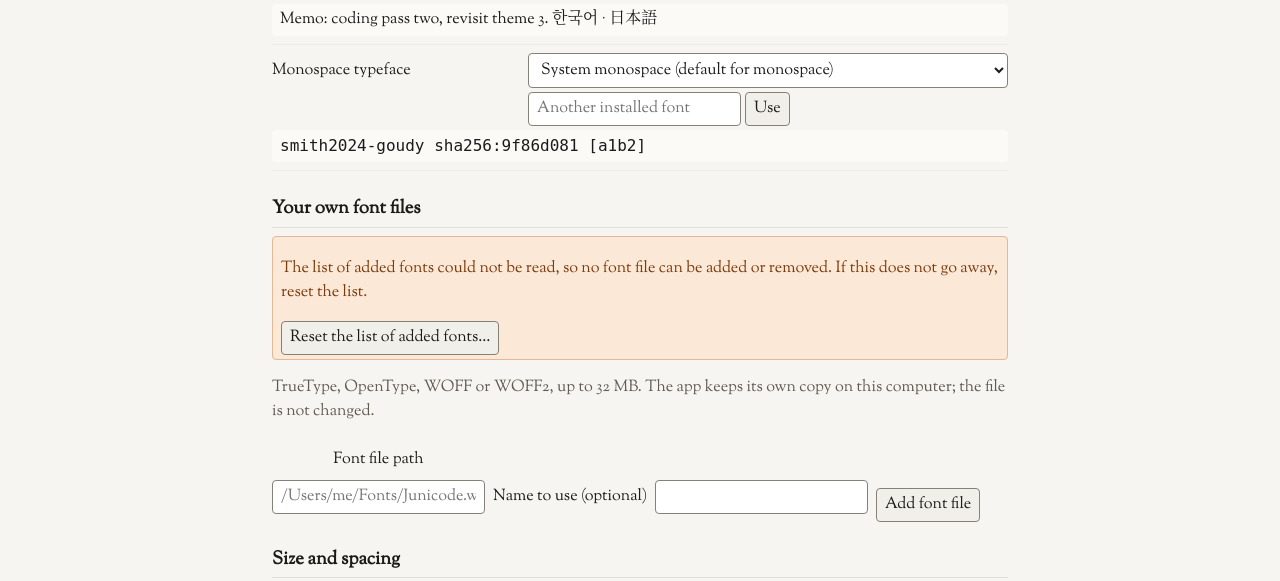
Test case: the list of added fonts cannot be read (Task 68) › the reset asks first: what is lost, what happens to the kept copies; focus is managed; confirmed, the list starts empty
(page scrolled)
Click the button "Reset the list of added fonts…". click: (390, 338)
box: 281,321 -> 499,355
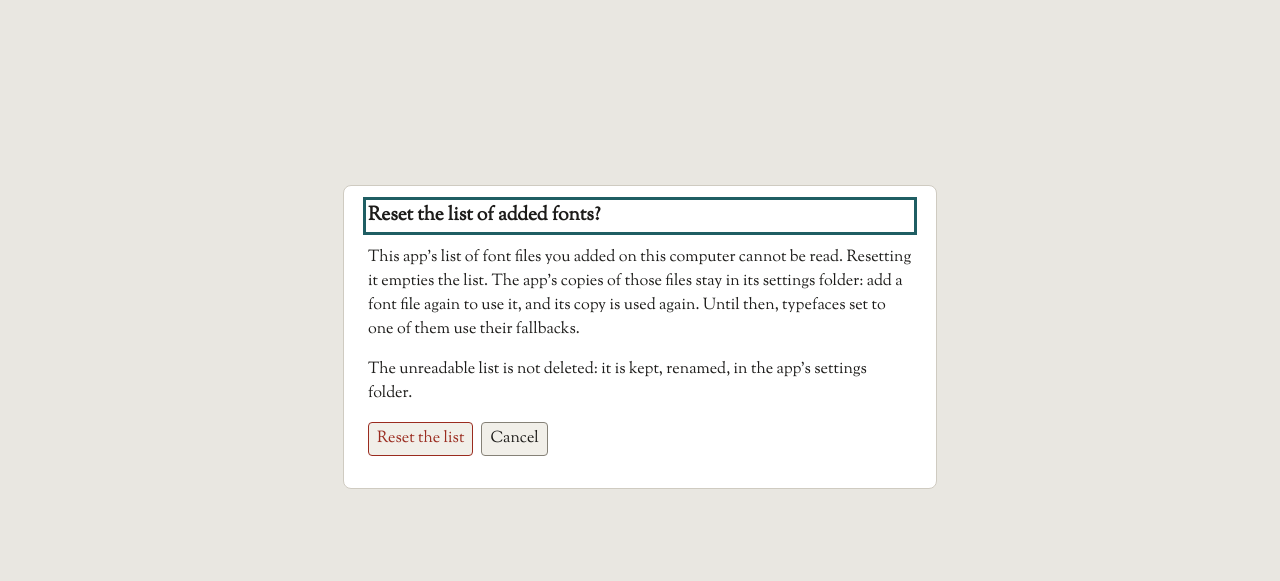
Expected: the dialog "Reset the list of added fonts?" shows "list of font files you added", 368,246 -> 911,341
Expected: the dialog "Reset the list of added fonts?" shows "copies of those files stay", 368,246 -> 911,341
Expected: the dialog "Reset the list of added fonts?" shows "kept, renamed", 368,358 -> 867,405
Press Tab
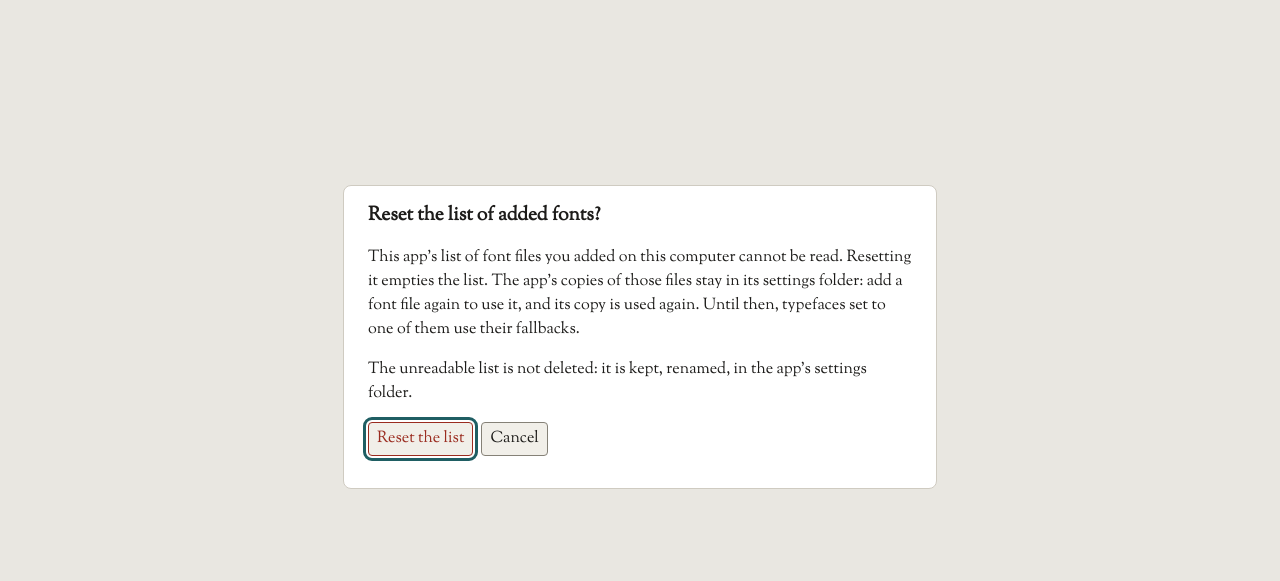
Press Shift+Tab
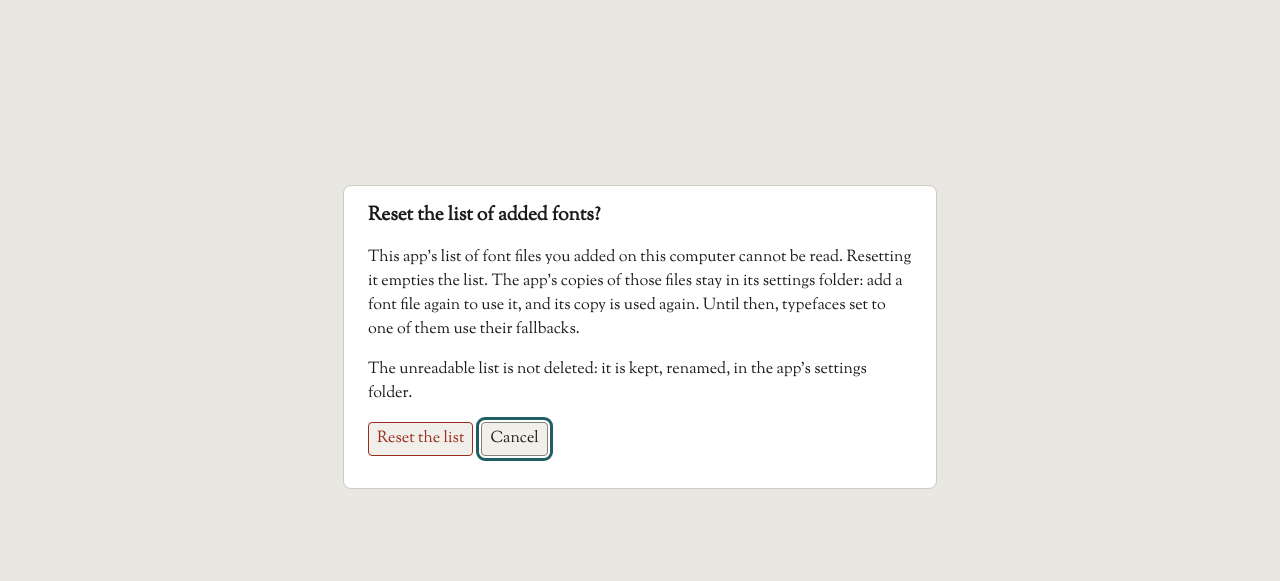
Press Escape
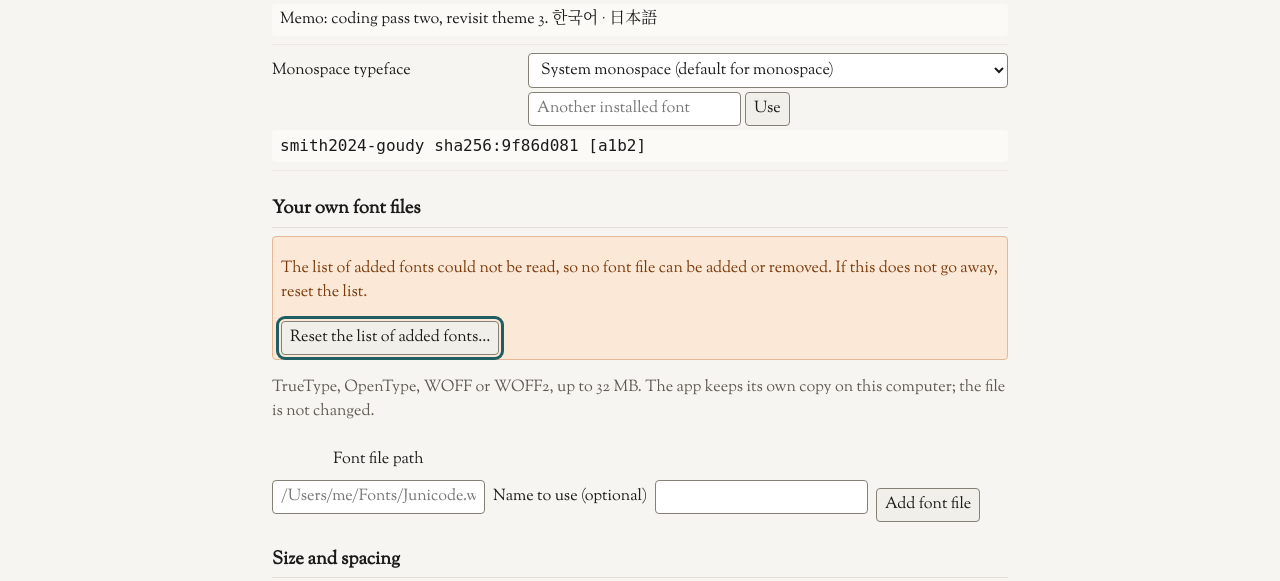
Expected: the dialog is gone
Click the button "Reset the list of added fonts…". click: (390, 338)
box: 281,321 -> 499,355
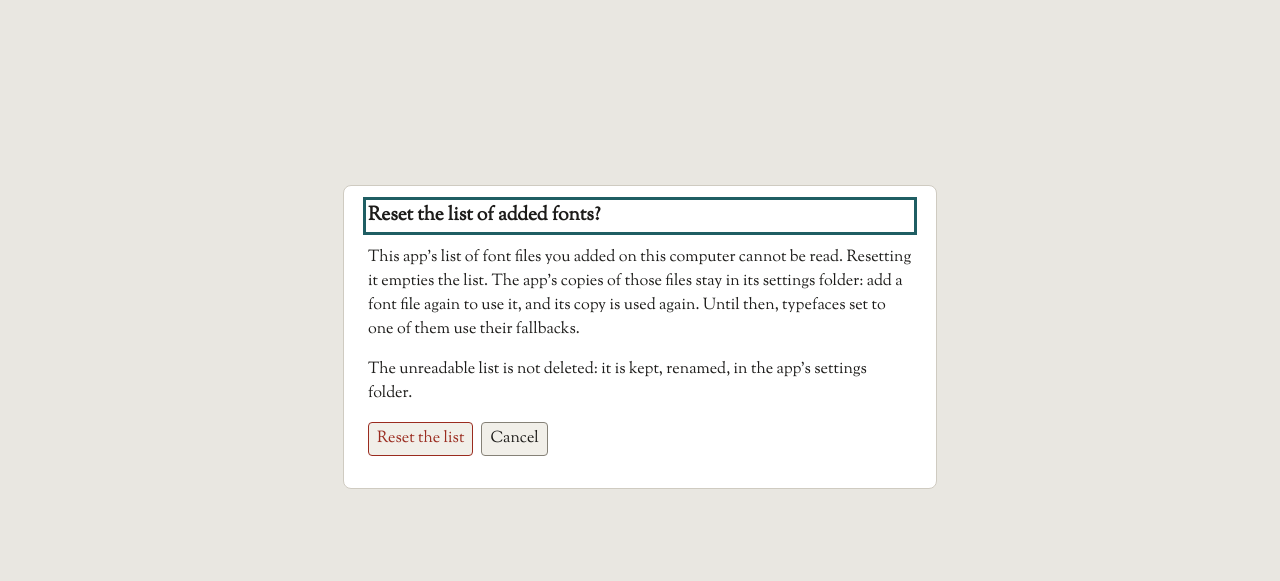
Double-click the button "Reset the list" at (421, 439), box 368,422 -> 473,456
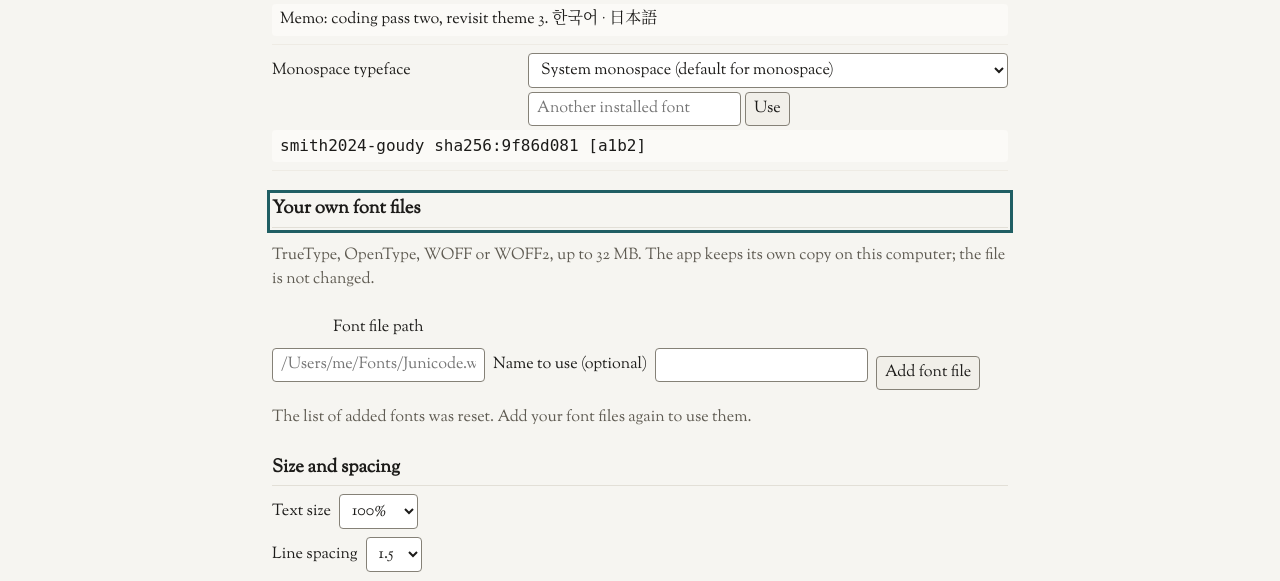
Expected: the dialog is gone
Expected: the button "Reset the list of added fonts…" is gone
Expected: the message reads "The list of added fonts was reset. Add your font files again to use them.", 272,406 -> 752,429
